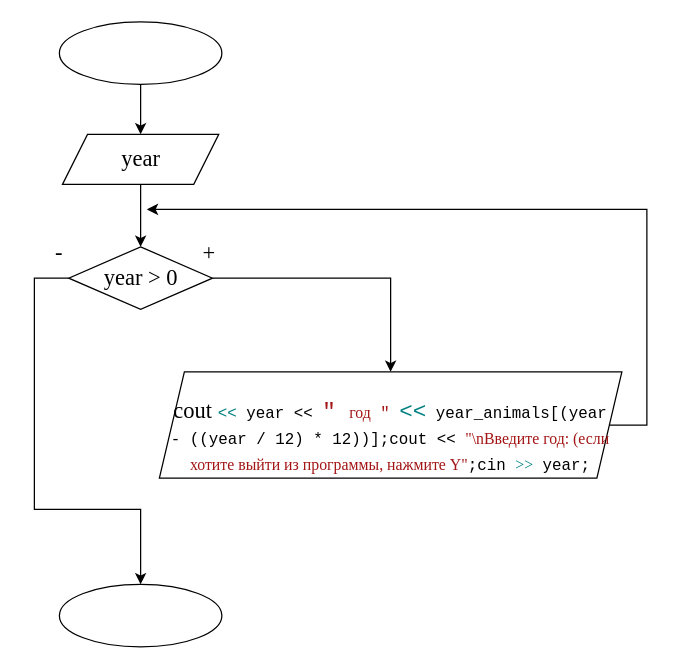
This 679x669 diagram has some shape labels left out. Here are the shapes that lost their labels. From the top down, the centre of each, then its label:
[140,52]: Начало
[140,615]: Конец
